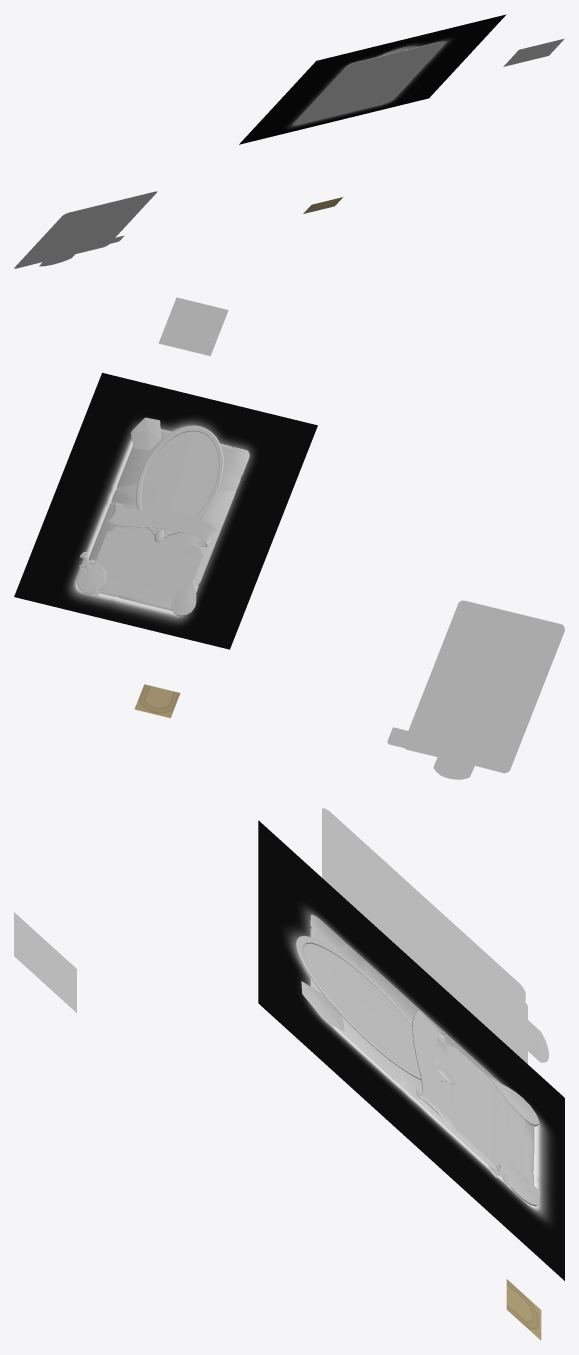
File: minion.FBX
3 views of the same model, one above another, from view 1: azimuth 30°, elevation 25°; view 2: azimuth 150°, elevation 25°; view 3: azimuth 270°, elevation 25° (orthographic). The views are drawn at different scales.
Visible parts, largest first — view 1: 2083bb70.obj, 91d26a8.obj, 1b408338.obj, 1b3d05d0.obj; view 2: 2083bb70.obj, 1b408338.obj, 20694080.obj, 1b445bc8.obj, 20692578.obj, 1b3d05d0.obj, 206ecd40.obj, 1b409e40.obj, 91cba88.obj, 1b44e2f0.obj, 2068ef68.obj, 20729318.obj (+1 smaller); view 3: 2083bb70.obj, 1b408338.obj, 20694080.obj, 20692578.obj, 1b445bc8.obj, 1b3d05d0.obj, 206ecd40.obj, 91cba88.obj, 1b409e40.obj, 1b44e2f0.obj, 2068ef68.obj, 20729318.obj (+1 smaller).
Boxes of the visible parts, x1,y1,x2,y2 form: 2083bb70.obj: (239, 14, 506, 144); 91d26a8.obj: (293, 42, 444, 125); 1b408338.obj: (14, 191, 157, 268); 1b3d05d0.obj: (503, 38, 564, 66); 2083bb70.obj: (14, 372, 317, 649); 1b408338.obj: (405, 600, 564, 779); 20694080.obj: (95, 526, 203, 602); 1b445bc8.obj: (88, 429, 249, 610); 20692578.obj: (141, 431, 218, 530); 1b3d05d0.obj: (158, 297, 228, 356); 206ecd40.obj: (108, 503, 216, 546); 1b409e40.obj: (387, 727, 492, 767); 91cba88.obj: (136, 425, 223, 535); 1b44e2f0.obj: (134, 684, 180, 718); 2068ef68.obj: (76, 552, 106, 596); 20729318.obj: (131, 417, 160, 450); 2083bb70.obj: (258, 820, 564, 1280); 1b408338.obj: (322, 808, 548, 1062); 20694080.obj: (446, 1044, 524, 1175); 20692578.obj: (303, 943, 419, 1073); 1b445bc8.obj: (310, 914, 534, 1185); 1b3d05d0.obj: (14, 912, 76, 1012); 206ecd40.obj: (412, 1010, 446, 1117); 91cba88.obj: (295, 935, 442, 1082); 1b409e40.obj: (505, 984, 527, 1063); 1b44e2f0.obj: (506, 1279, 541, 1340); 2068ef68.obj: (488, 1162, 540, 1206); 20729318.obj: (301, 981, 344, 1031).
Bounding box in the file's own units: 0.0465 × 0.0252 × 0.0264.
